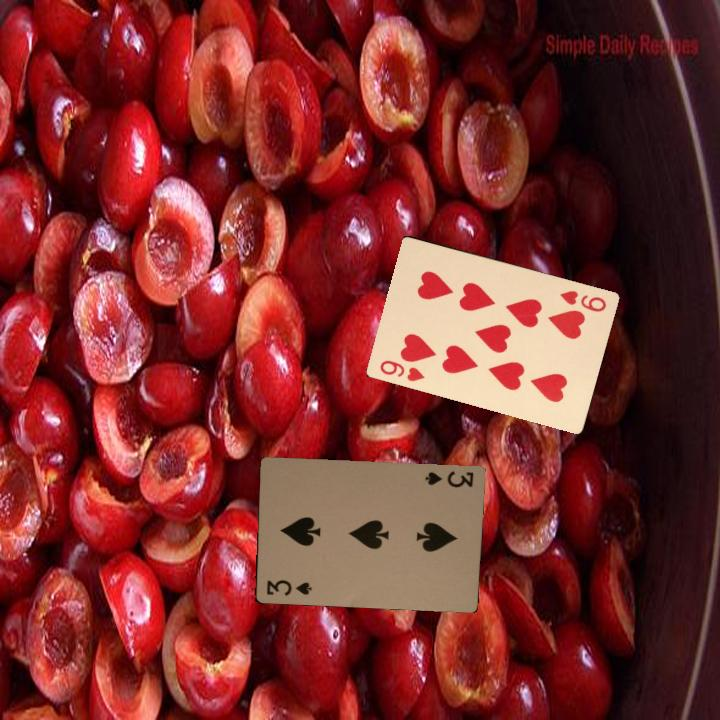3s: (422, 467, 476, 490), (263, 576, 314, 598)
9h: (556, 286, 609, 314), (376, 356, 427, 384)
